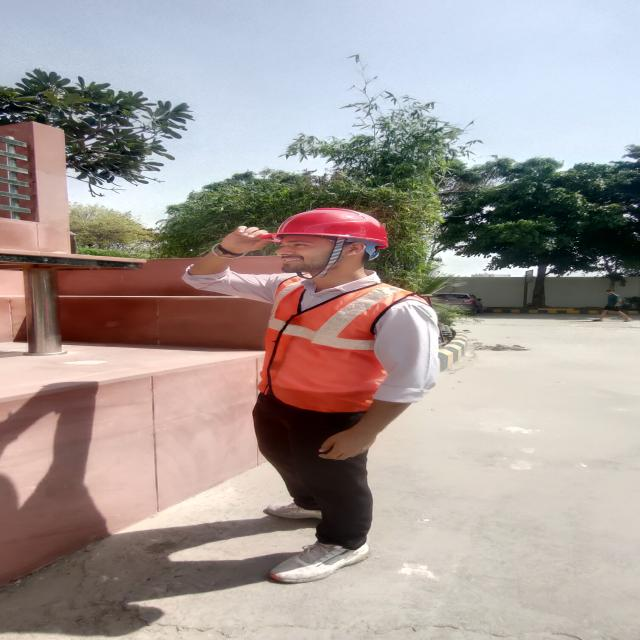safe: (252, 208, 438, 582)
